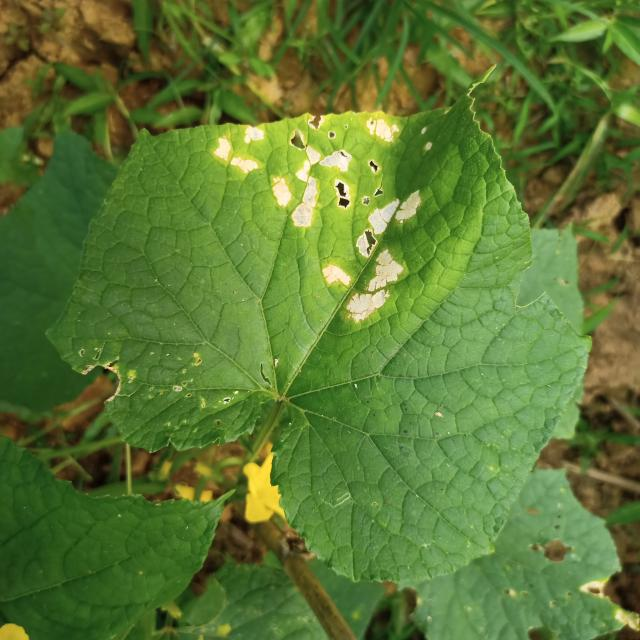disease_cucumber: (210, 108, 428, 342)
